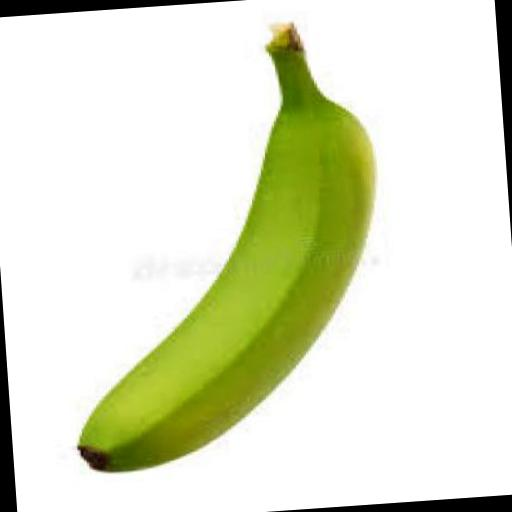biodegradable: (48, 16, 388, 474)
